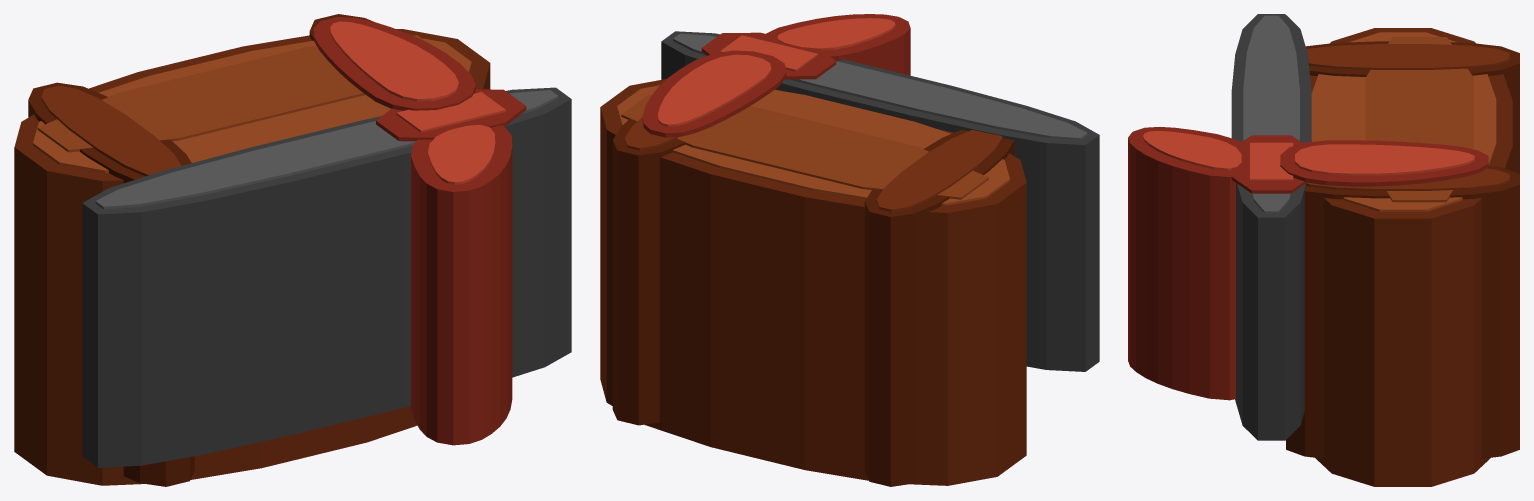
The model's file is bag_picareta_rubi.fbx.
The picture shows the model from 3 angles, left to right: view 1: azimuth 30°, elevation 25°; view 2: azimuth 150°, elevation 25°; view 3: azimuth 270°, elevation 25°; orthographic projection. The views are drawn at different scales.
Visible parts, largest first — view 1: bag_picareta_rubi_mochila; view 2: bag_picareta_rubi_mochila; view 3: bag_picareta_rubi_mochila.
Boxes of the visible parts, x1,y1,x2,y2 form: bag_picareta_rubi_mochila: [14, 14, 571, 486]; bag_picareta_rubi_mochila: [600, 14, 1099, 486]; bag_picareta_rubi_mochila: [1128, 14, 1519, 486].
Bounding box in the file's own units: 2.89 × 1.91 × 2.36.
1 material, 1 textured.
